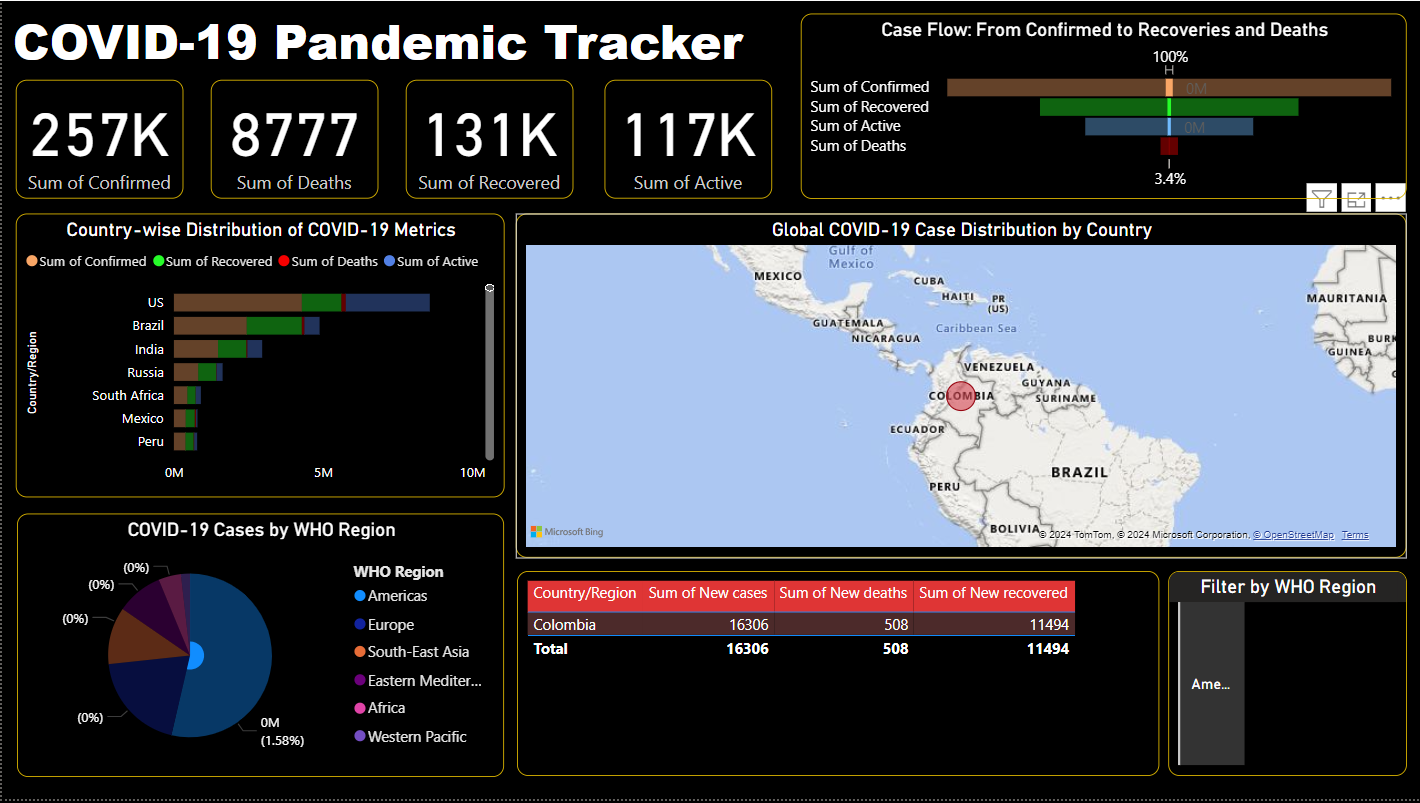

Layout of this report page (visuals, bound fields, positions):
{"tool":"powerbi","page":{"name":"Page 1","canvas":[1280,720],"ordinal":0},"visuals":[{"type":"textbox","box":[0,0,677.4,70.9],"z":0},{"type":"card","fields":{"Values":["Sum(country_wise_latest.Confirmed)"]},"box":[12.5,71.1,150.8,107.2],"z":1000},{"type":"card","fields":{"Values":["Sum(country_wise_latest.Deaths)"]},"box":[188.2,71.1,150.8,107.2],"z":2000},{"type":"card","fields":{"Values":["Sum(country_wise_latest.Recovered)"]},"box":[364,71.1,150.8,107.2],"z":3000},{"type":"card","fields":{"Values":["Sum(country_wise_latest.Active)"]},"box":[543.5,71.1,150.8,107.2],"z":4000},{"type":"map","title":"Global COVID-19 Case Distribution by Country","fields":{"Category":["country_wise_latest.Country/Region"],"Size":["Sum(country_wise_latest.Confirmed)"]},"box":[463.5,192,803.4,310.6],"z":5000},{"type":"barChart","title":"Country-wise Distribution of COVID-19 Metrics","fields":{"Category":["country_wise_latest.Country/Region"],"Y":["Sum(country_wise_latest.Confirmed)","Sum(country_wise_latest.Recovered)","Sum(country_wise_latest.Deaths)","Sum(country_wise_latest.Active)"]},"box":[12.8,191.9,440.7,255.8],"z":6000},{"type":"pieChart","title":"COVID-19 Cases by WHO Region","fields":{"Category":["country_wise_latest.WHO Region"],"Y":["Sum(country_wise_latest.Confirmed)"]},"box":[14,461.6,439.5,237.2],"z":7000},{"type":"tableEx","fields":{"Values":["country_wise_latest.Country/Region","Sum(country_wise_latest.New cases)","Sum(country_wise_latest.New deaths)","Sum(country_wise_latest.New recovered)"]},"box":[464,514,579.1,184.9],"z":8000},{"type":"funnel","title":"Case Flow: From Confirmed to Recoveries and Deaths","fields":{"Y":["Sum(country_wise_latest.Confirmed)","Sum(country_wise_latest.Recovered)","Sum(country_wise_latest.Active)","Sum(country_wise_latest.Deaths)"]},"box":[720.2,11,546.6,167.5],"z":9000},{"type":"advancedSlicerVisual","title":"Filter by WHO Region","fields":{"Values":["country_wise_latest.WHO Region"]},"box":[1051.2,514,215.1,184.9],"z":10000}]}

Visuals, with their boxes in screenshot pixels (x1, y1, x2, y2), scaled from the page's 1280x720 canvas onto the 1420x803 screenshot:
textbox: <region>0, 0, 751, 79</region>
card - Sum(country_wise_latest.Confirmed): <region>14, 79, 181, 199</region>
card - Sum(country_wise_latest.Deaths): <region>209, 79, 376, 199</region>
card - Sum(country_wise_latest.Recovered): <region>404, 79, 571, 199</region>
card - Sum(country_wise_latest.Active): <region>603, 79, 770, 199</region>
"Global COVID-19 Case Distribution by Country" map: <region>514, 214, 1405, 561</region>
"Country-wise Distribution of COVID-19 Metrics" barChart: <region>14, 214, 503, 499</region>
"COVID-19 Cases by WHO Region" pieChart: <region>16, 515, 503, 779</region>
tableEx - country_wise_latest.Country/Region x Sum(country_wise_latest.New cases): <region>515, 573, 1157, 779</region>
"Case Flow: From Confirmed to Recoveries and Deaths" funnel: <region>799, 12, 1405, 199</region>
"Filter by WHO Region" advancedSlicerVisual: <region>1166, 573, 1405, 779</region>
